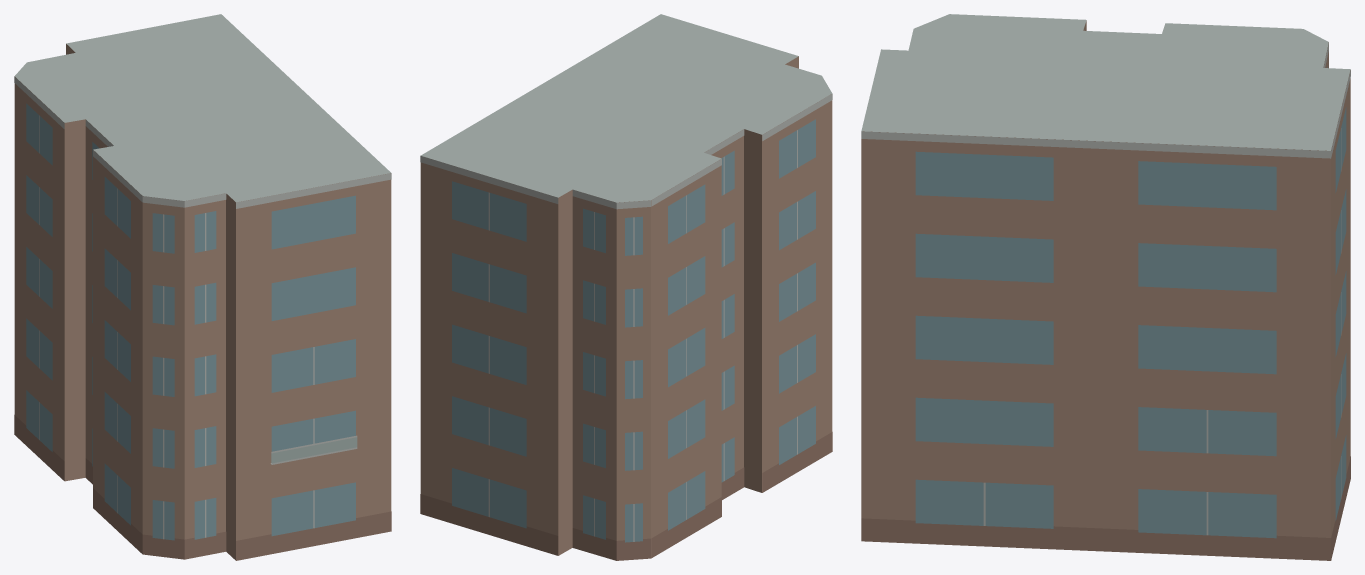
File: survey-upis-32669135.glb
3 renders of one model, left to right at view 1: azimuth 30°, elevation 25°; view 2: azimuth 150°, elevation 25°; view 3: azimuth 270°, elevation 25°, orthographic. The views are drawn at different scales.
Parts seen in each view (by area): view 1: survey-upis-32669135.tmp; view 2: survey-upis-32669135.tmp; view 3: survey-upis-32669135.tmp.
Boxes of the visible parts, bbox=[...] form: survey-upis-32669135.tmp: bbox=[14, 14, 391, 560]; survey-upis-32669135.tmp: bbox=[420, 14, 832, 560]; survey-upis-32669135.tmp: bbox=[861, 14, 1350, 560].
Size of the model in its own units: 9.47 by 13.2 by 14.29.
